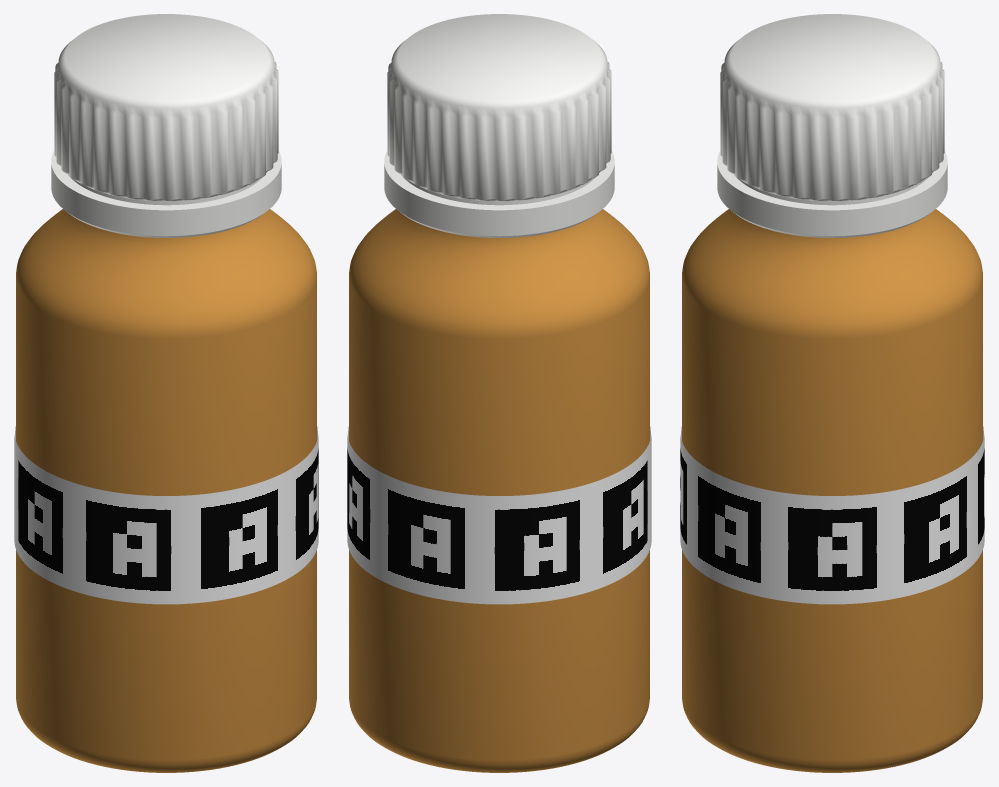
File: SMP-0089_2000762581234.glb
3 views of the same model, side by side, from view 1: azimuth 30°, elevation 25°; view 2: azimuth 150°, elevation 25°; view 3: azimuth 270°, elevation 25° (orthographic).
Parts seen in each view (by area): view 1: Bottle_050ml, Cap_050ml_PP25, Label_SMP-0089; view 2: Bottle_050ml, Cap_050ml_PP25, Label_SMP-0089; view 3: Bottle_050ml, Cap_050ml_PP25, Label_SMP-0089.
Part boxes in pixels (bbox=[...]): Bottle_050ml: bbox=[16, 209, 316, 772]; Cap_050ml_PP25: bbox=[51, 14, 281, 237]; Label_SMP-0089: bbox=[14, 426, 318, 604]; Bottle_050ml: bbox=[349, 209, 649, 772]; Cap_050ml_PP25: bbox=[384, 14, 614, 237]; Label_SMP-0089: bbox=[347, 426, 651, 604]; Bottle_050ml: bbox=[682, 209, 982, 772]; Cap_050ml_PP25: bbox=[717, 14, 947, 237]; Label_SMP-0089: bbox=[680, 426, 984, 604].
Size of the model in its own units: 0.038 by 0.091 by 0.038.
4 materials, 1 textured.
